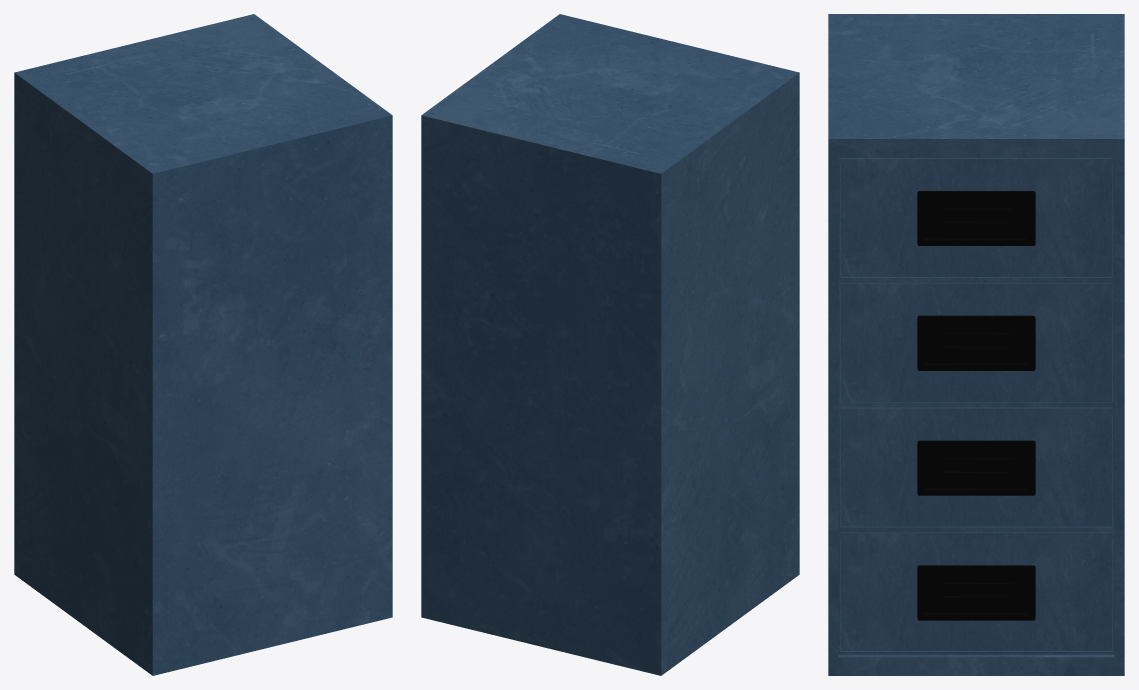
The model's file is blue_filing_cabinet.glb.
3 renders of one model, left to right at view 1: azimuth 30°, elevation 25°; view 2: azimuth 150°, elevation 25°; view 3: azimuth 270°, elevation 25°, orthographic. The views are drawn at different scales.
Visible parts, largest first — view 1: blue_filing_cabinet; view 2: blue_filing_cabinet; view 3: blue_filing_cabinet, drawer_2, drawer_1, drawer_3, drawer_4.
Part boxes in pixels (left/top/right/bottom): blue_filing_cabinet: left=14, top=14, right=392, bottom=675; blue_filing_cabinet: left=421, top=14, right=799, bottom=675; blue_filing_cabinet: left=828, top=14, right=1124, bottom=675; drawer_2: left=840, top=407, right=1112, bottom=526; drawer_1: left=840, top=532, right=1112, bottom=651; drawer_3: left=840, top=283, right=1112, bottom=401; drawer_4: left=840, top=158, right=1112, bottom=276.
Size of the model in its own units: 0.5 by 1 by 0.5.
Materials: 2 (2 with a texture image).
